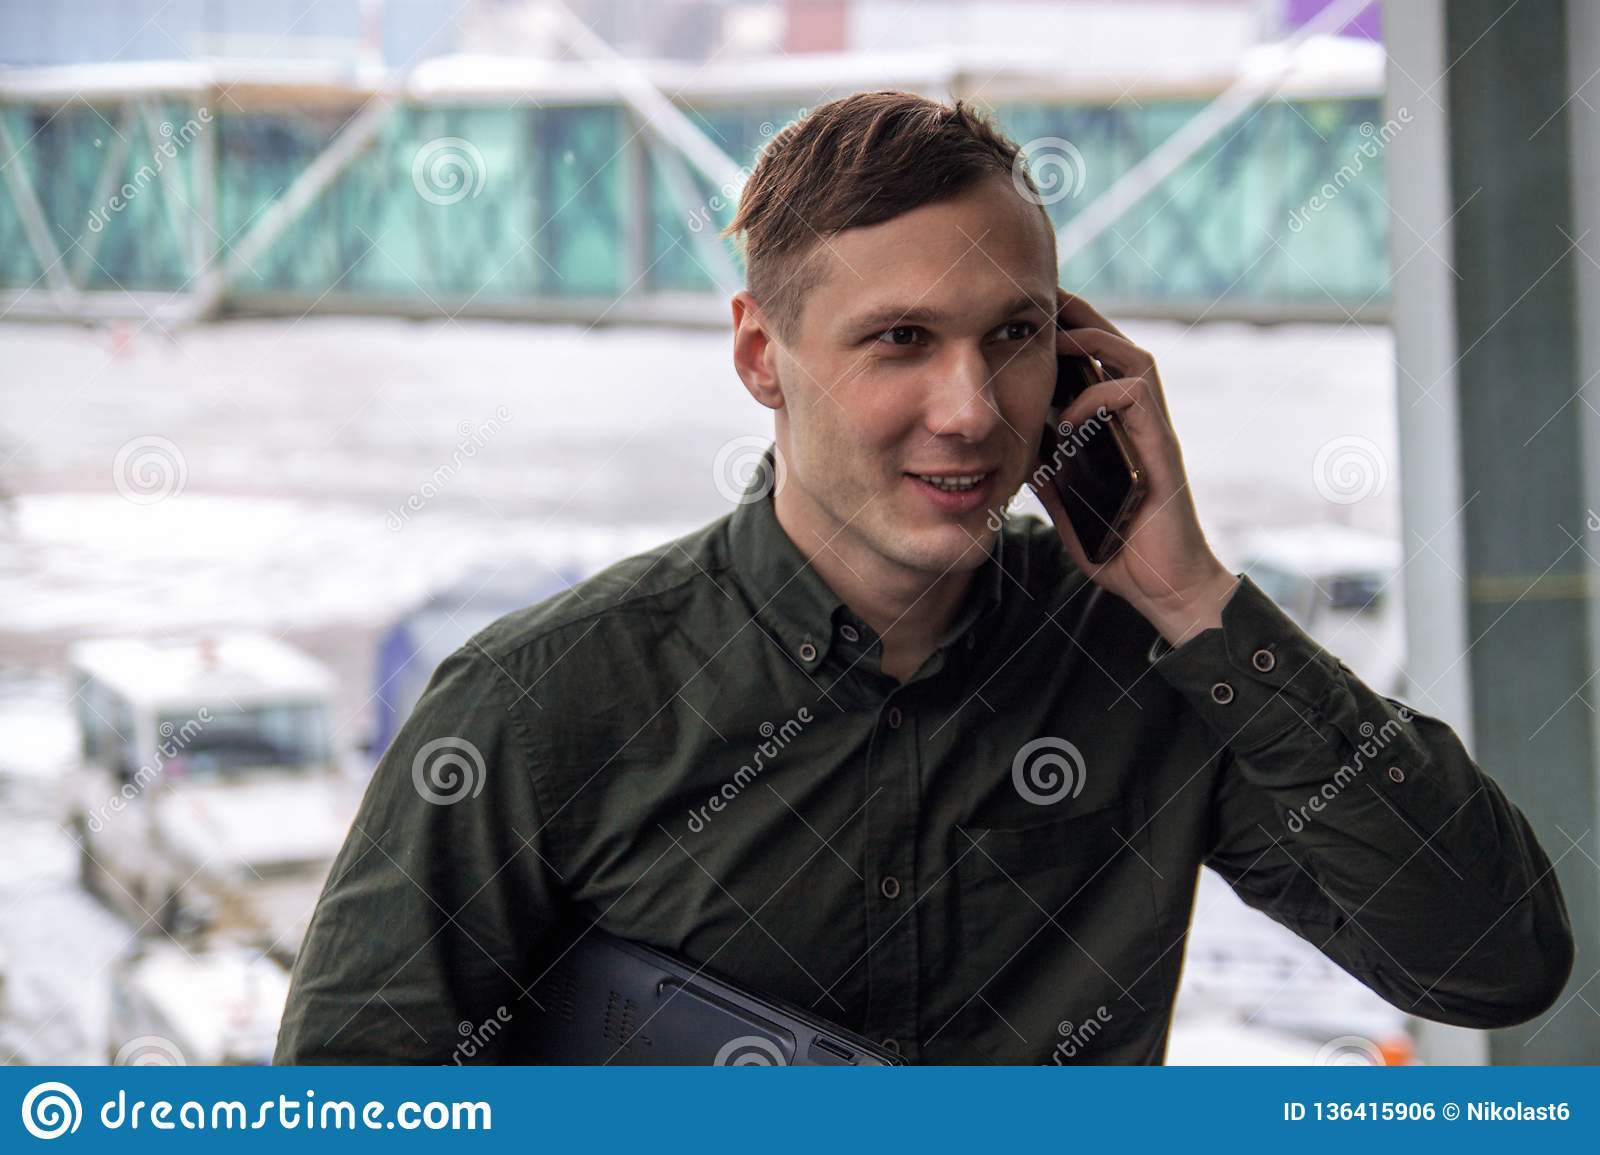phone: (1041, 328, 1149, 563)
talk: (831, 277, 1198, 609)
